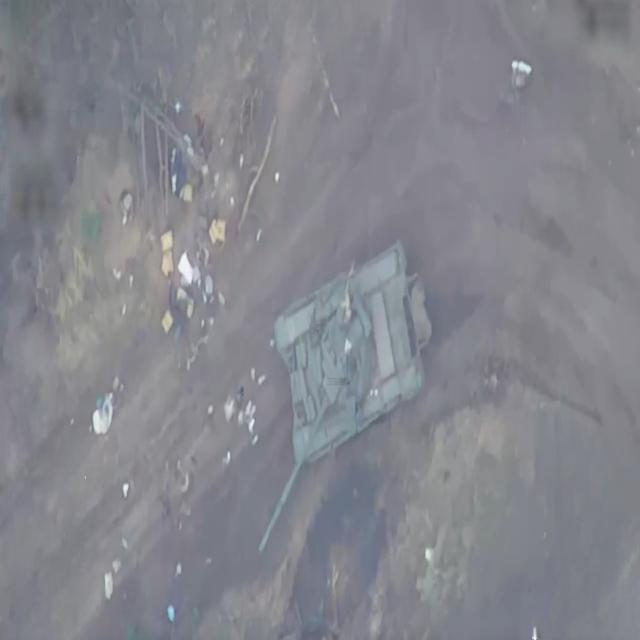MBT: (253, 237, 427, 564)
